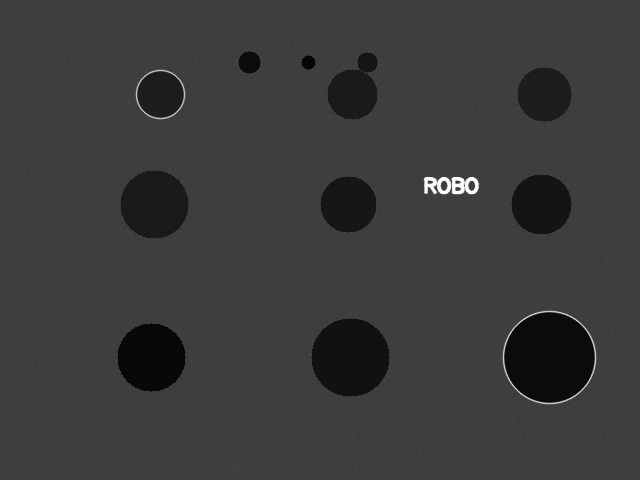hole: (503, 311, 595, 403), (311, 318, 389, 396), (120, 170, 188, 238), (117, 323, 185, 391), (511, 174, 571, 234), (320, 176, 376, 232), (517, 67, 571, 121), (327, 69, 377, 119), (136, 70, 184, 118), (238, 51, 260, 73), (357, 52, 377, 72), (301, 55, 315, 69)
